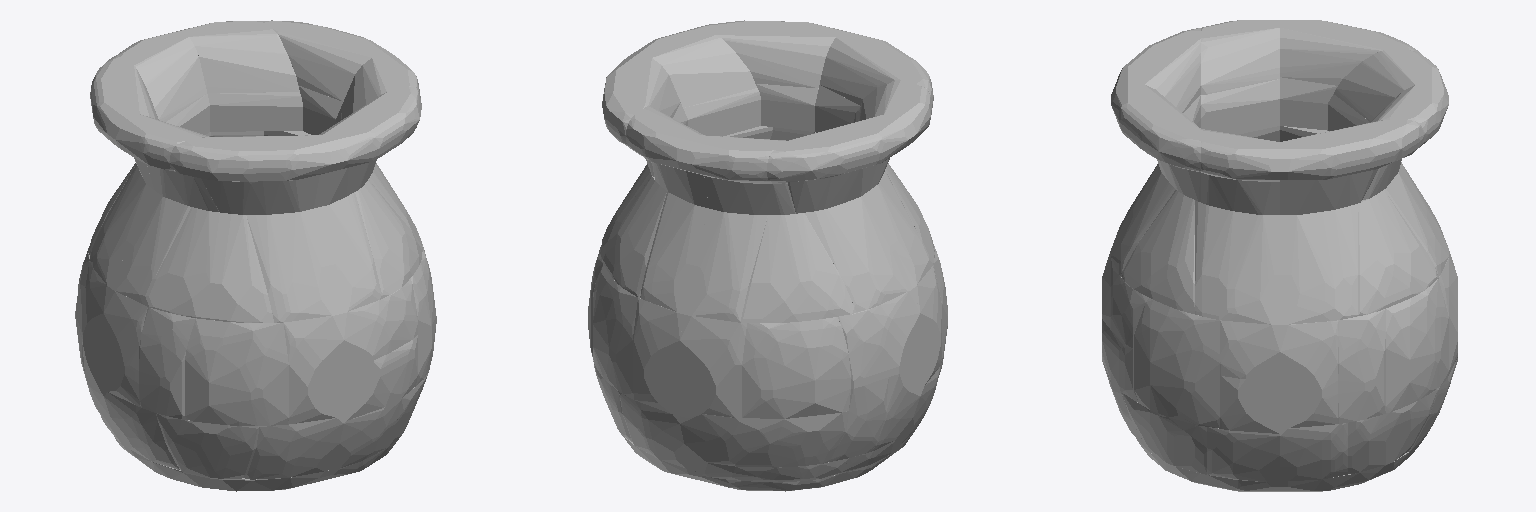
URDF robot description (root):
<?xml version="1.0"?>
<robot name="root">
  <link name="base_link">
    <visual>
      <origin xyz="0 0 0" rpy="0 0 0" />
      <geometry>
        <mesh filename="../meshes/unidex_sem_Vase-7a971531ff72a48d5706d1c54190f27a_006.obj" scale="1.0000E+00 1.0000E+00 1.0000E+00" />
      </geometry>
      <material name="">
        <color rgba="7.50E-01 7.50E-01 7.50E-01 1" />
      </material>
    </visual>
    <collision>
      <origin xyz="0 0 0" rpy="0 0 0" />
      <geometry>
        <mesh filename="../meshes/unidex_sem_Vase-7a971531ff72a48d5706d1c54190f27a_006.obj" scale="1.0000E+00 1.0000E+00 1.0000E+00" />
      </geometry>
    </collision>
  </link>
</robot>

--- What the picture shows (computed from the rendered views, not written in the file) ---
The picture shows the robot from 3 angles, left to right: view 1: azimuth 30°, elevation 25°; view 2: azimuth 150°, elevation 25°; view 3: azimuth 270°, elevation 25°; orthographic projection.
Robot: root — 1 links, 0 joints (none); root link base_link; default pose: every joint at zero.
Visible links, largest first — view 1: base_link; view 2: base_link; view 3: base_link.
Boxes of the visible links, left/top/right/bottom form: base_link: left=75, top=20, right=436, bottom=491; base_link: left=588, top=20, right=947, bottom=491; base_link: left=1102, top=20, right=1457, bottom=491.
Size in the robot's own frame: 0.0841 by 0.0841 by 0.0922 metres.
1 mesh visuals loaded from 1 distinct referenced files (1 OBJ).
